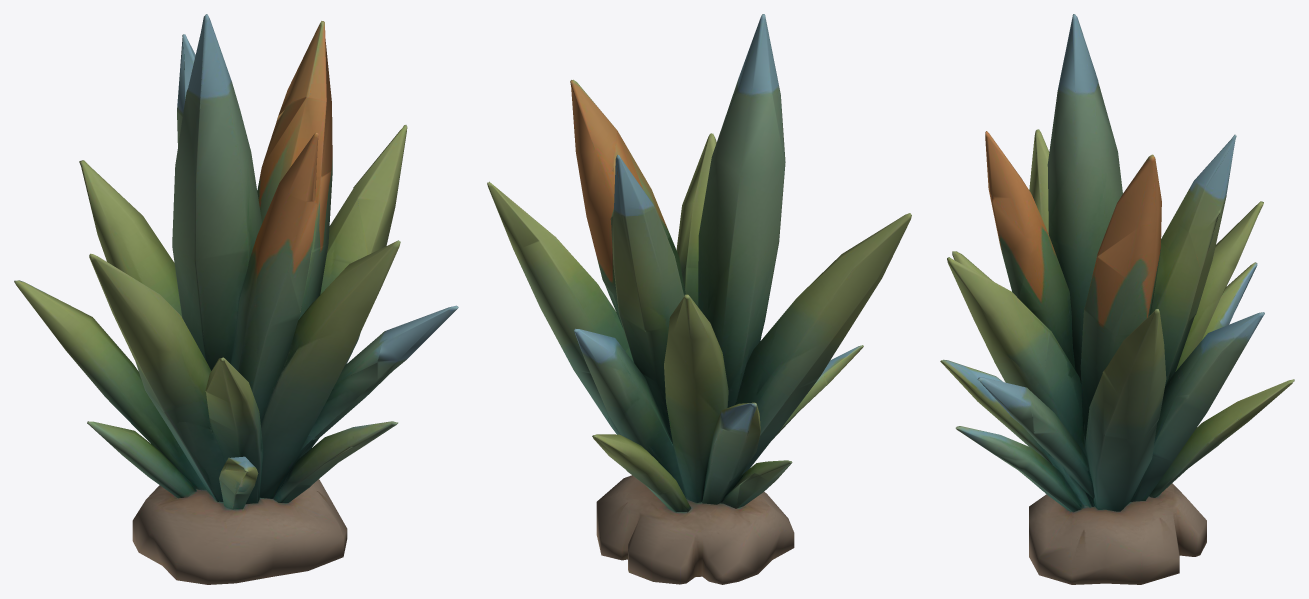
File: bush-01.glb
The picture shows the model from 3 angles, left to right: view 1: azimuth 30°, elevation 25°; view 2: azimuth 150°, elevation 25°; view 3: azimuth 270°, elevation 25°; orthographic projection. The views are drawn at different scales.
Parts seen in each view (by area): view 1: tripo_node_0842ef75-0c19-40d3-95ac-16c771ea2253; view 2: tripo_node_0842ef75-0c19-40d3-95ac-16c771ea2253; view 3: tripo_node_0842ef75-0c19-40d3-95ac-16c771ea2253.
Boxes of the visible parts, bbox=[...] form: tripo_node_0842ef75-0c19-40d3-95ac-16c771ea2253: bbox=[14, 14, 458, 584]; tripo_node_0842ef75-0c19-40d3-95ac-16c771ea2253: bbox=[487, 14, 911, 584]; tripo_node_0842ef75-0c19-40d3-95ac-16c771ea2253: bbox=[940, 14, 1294, 584].
Size of the model in its own units: 0.7168 by 0.998 by 0.6309.
Materials: 1 (1 with a texture image).
